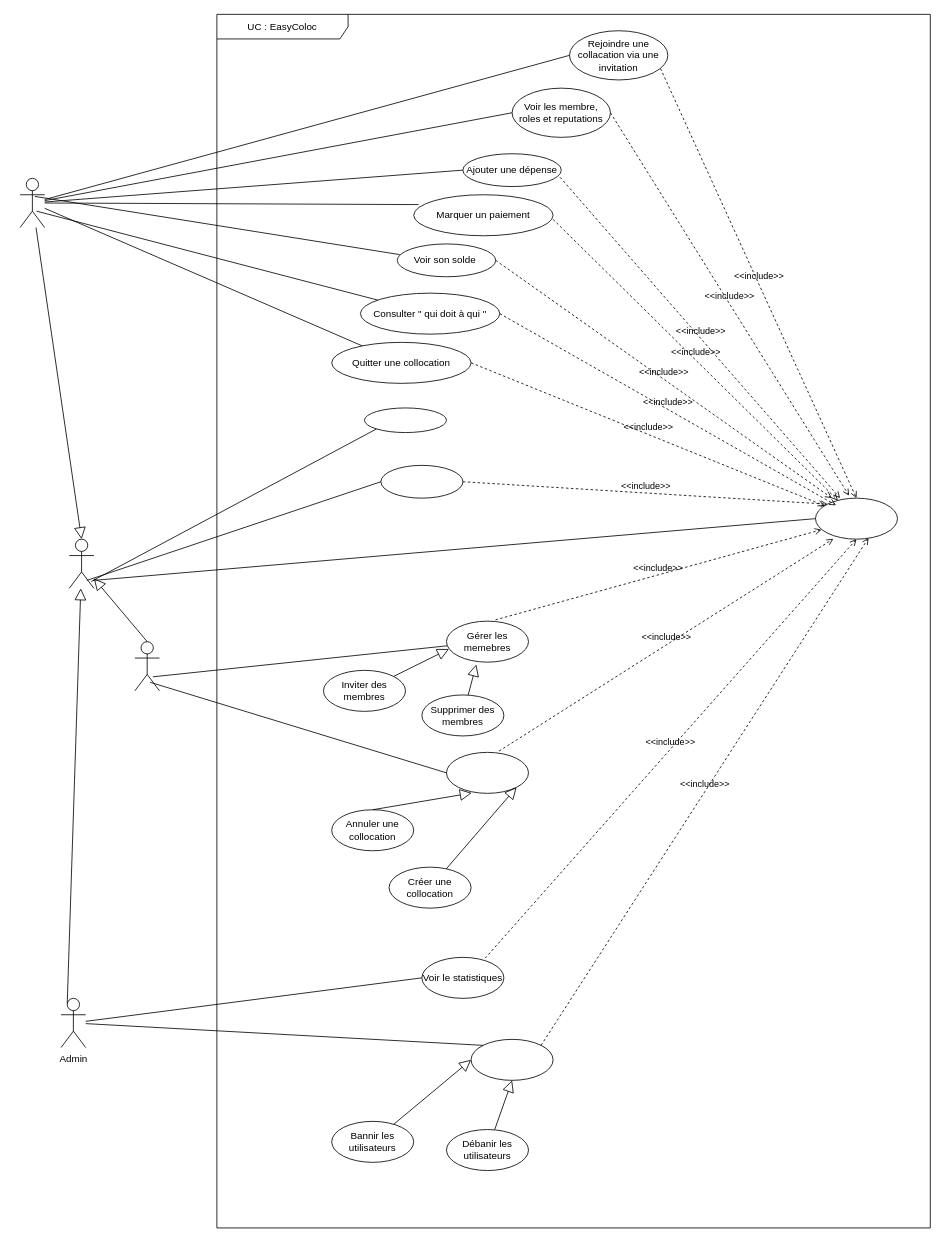
Some shapes in this 945 by 1242 pixel diagram are drawn without their labels. Each missing label, with the box of its shape:
Gérer le profil: (380, 465, 463, 498)
Gérer les collocations: (446, 752, 528, 793)
Gérer les utilisateurs: (470, 1039, 553, 1080)
Member: (19, 178, 45, 228)
Owner: (134, 641, 159, 691)
S'inscrire: (364, 407, 446, 433)
Se connecter: (815, 497, 897, 539)
User: (68, 538, 94, 588)
